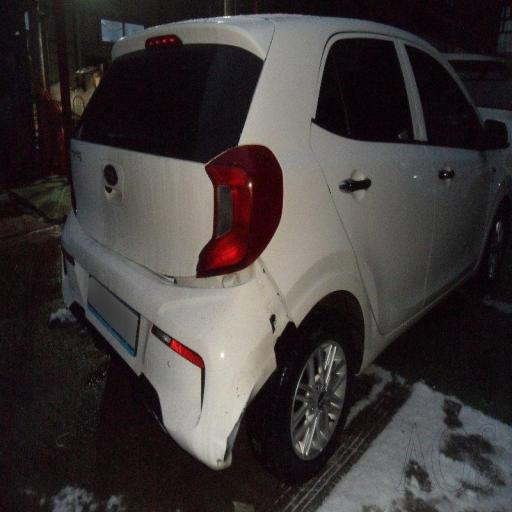dent: (96, 148, 341, 475)
